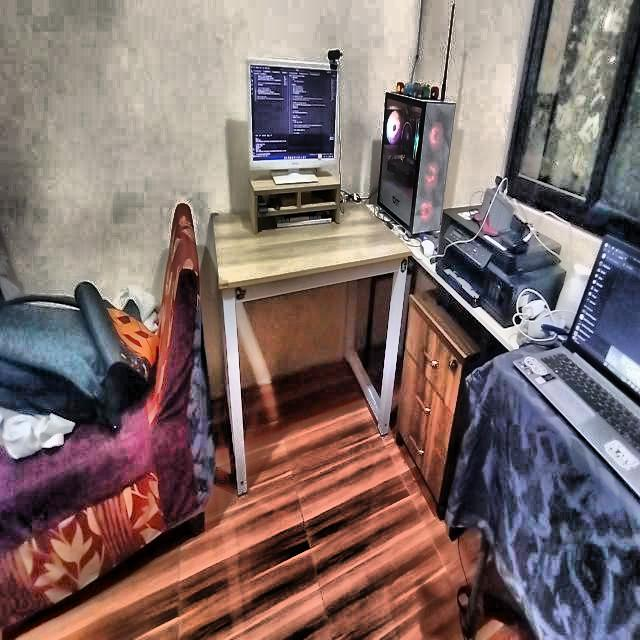mesa: (208, 200, 412, 484)
